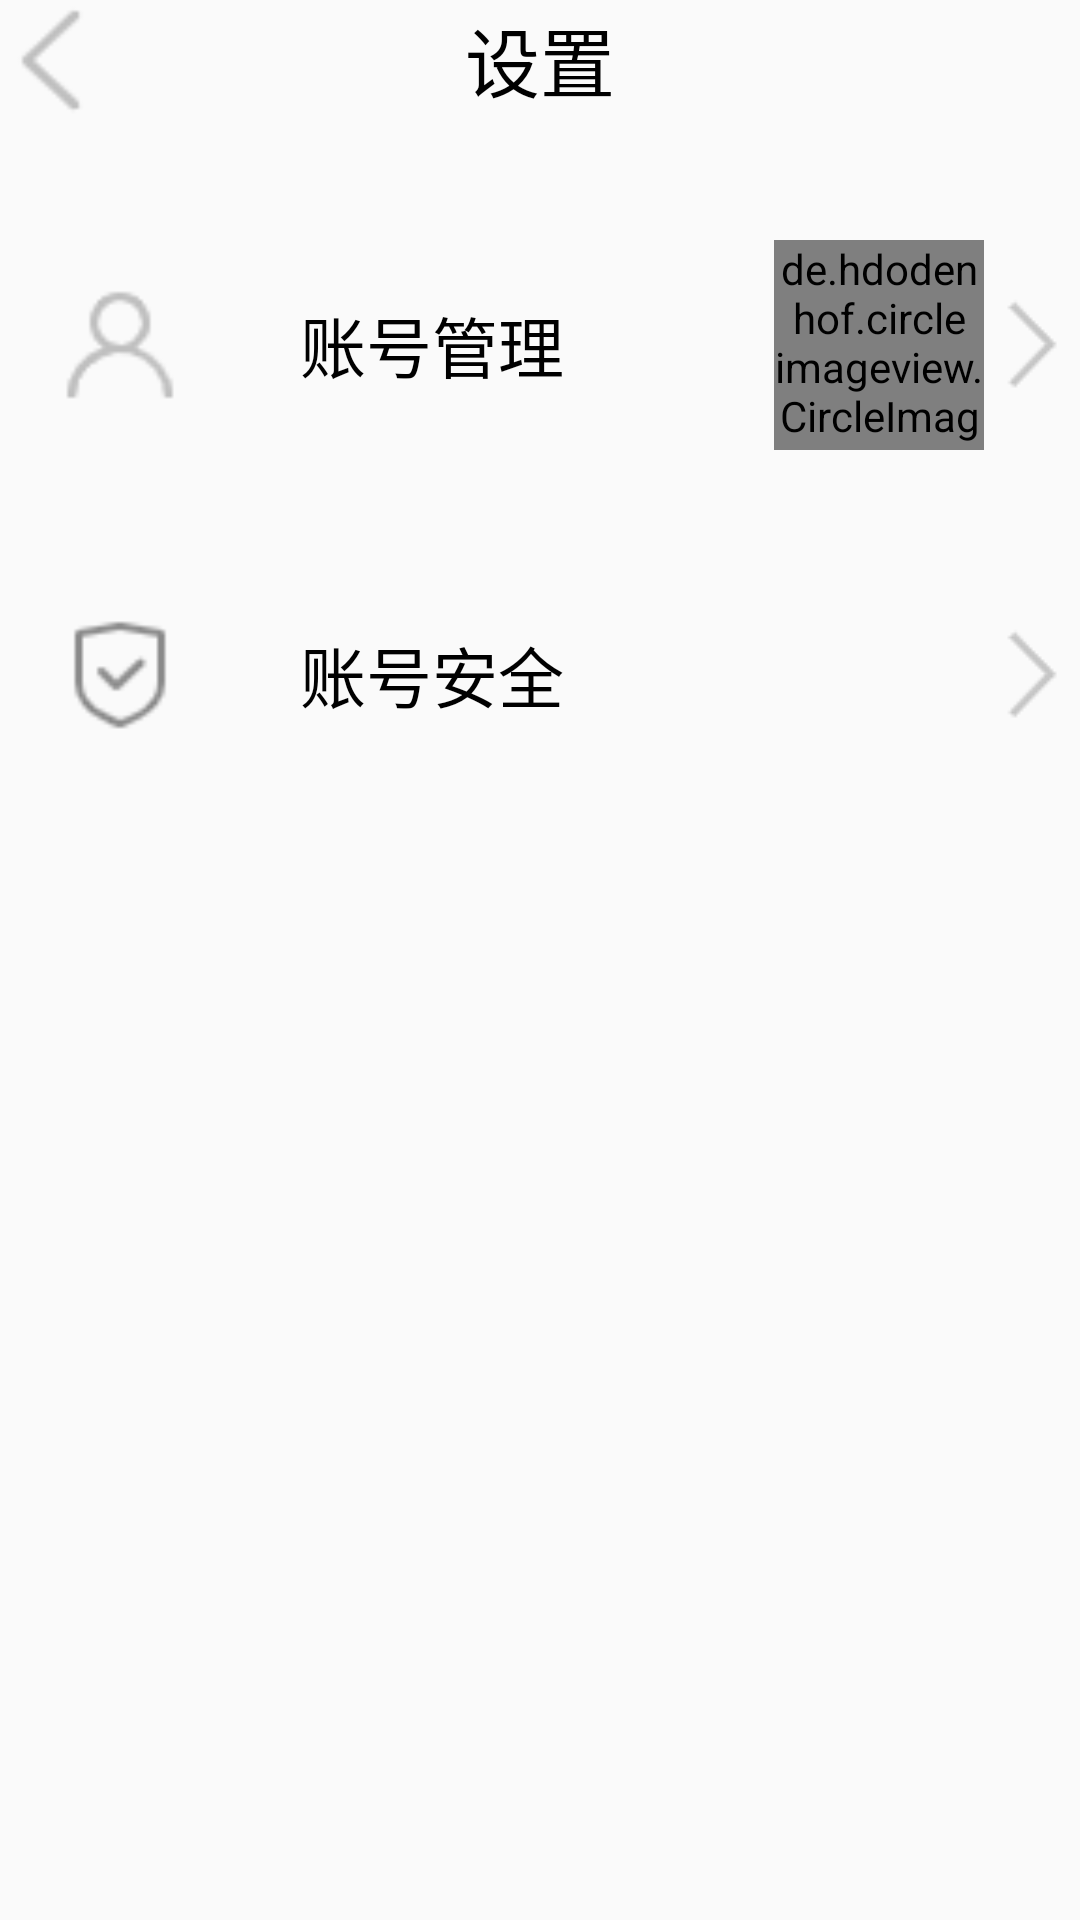

Icon bounding boxes for this 1080 × 1920 phone screenshot, format [x1=x1, y1=y1, x2=x2, y2=y2]:
account safe: [x1=74, y1=621, x2=166, y2=728]
back: [x1=22, y1=11, x2=79, y2=109]
